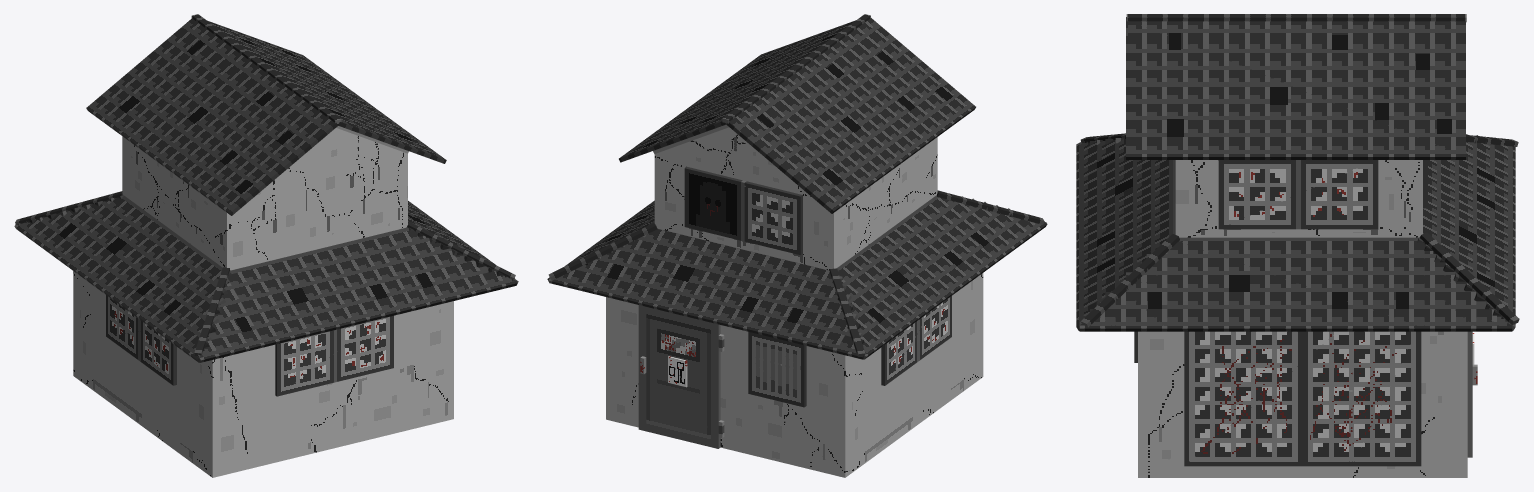
File: 5acfd621-5aa0-4840-b51e-c041bf105e03.gltf
3 renders of one model, left to right at view 1: azimuth 30°, elevation 25°; view 2: azimuth 150°, elevation 25°; view 3: azimuth 270°, elevation 25°, orthographic. The views are drawn at different scales.
Parts seen in each view (by area): view 1: Node (8)-Local, 2f_roof_02-Local, Node (7)-Local, roof03-Local, roof04-Local, Node (4)-Local, 2f_roof-Local, Node (2)-Local, kawara2fcover-Local, roof02-Local, 1fkc4-Local, 1fkc3-Local (+1 smaller); view 2: Node (8)-Local, 2f_roof_02-Local, Node (10)-Local, roof04-Local, Node (7)-Local, Node-Local, Node (5)-Local, 2f_roof-Local, Node (1)-Local, Node (2)-Local, kawara2fcover-Local, roof02-Local (+4 smaller); view 3: 2f_roof-Local, Node (3)-Local, roof02-Local, Node (8)-Local, roof03-Local, Node (10)-Local, Node (6)-Local, Node (7)-Local, kawara2fcover-Local, 1fkc3-Local, 1fkc2-Local, Node-Local.
Boxes of the visible parts, x1,y1,x2,y2 form: Node (8)-Local: (73, 271, 453, 477); 2f_roof_02-Local: (86, 18, 338, 215); Node (7)-Local: (122, 128, 407, 270); roof03-Local: (197, 227, 517, 362); roof04-Local: (14, 195, 231, 362); Node (4)-Local: (275, 315, 393, 396); 2f_roof-Local: (207, 20, 446, 163); Node (2)-Local: (106, 295, 176, 385); kawara2fcover-Local: (191, 14, 341, 123); roof02-Local: (408, 201, 518, 283); 1fkc4-Local: (194, 267, 230, 355); 1fkc3-Local: (406, 222, 515, 279); Node (8)-Local: (606, 273, 983, 477); 2f_roof_02-Local: (726, 18, 975, 213); Node (10)-Local: (548, 229, 865, 359); roof04-Local: (835, 195, 1047, 359); Node (7)-Local: (654, 127, 937, 270); Node-Local: (638, 305, 724, 448); Node (5)-Local: (684, 167, 802, 255); 2f_roof-Local: (619, 20, 855, 162); Node (1)-Local: (748, 332, 806, 407); Node (2)-Local: (881, 296, 951, 385); kawara2fcover-Local: (722, 14, 870, 123); roof02-Local: (547, 200, 654, 281); 2f_roof-Local: (1126, 19, 1465, 159); Node (3)-Local: (1184, 331, 1421, 466); roof02-Local: (1079, 237, 1512, 331); Node (8)-Local: (1138, 331, 1467, 477); roof03-Local: (1076, 139, 1175, 330); Node (10)-Local: (1417, 134, 1515, 330); Node (6)-Local: (1218, 160, 1378, 229); Node (7)-Local: (1175, 160, 1422, 237); kawara2fcover-Local: (1126, 14, 1466, 22); 1fkc3-Local: (1081, 234, 1179, 327); 1fkc2-Local: (1420, 232, 1519, 324); Node-Local: (1467, 331, 1477, 457).
Size of the model in its own units: 256 by 252 by 258.
Materials: 25 (25 with a texture image).
